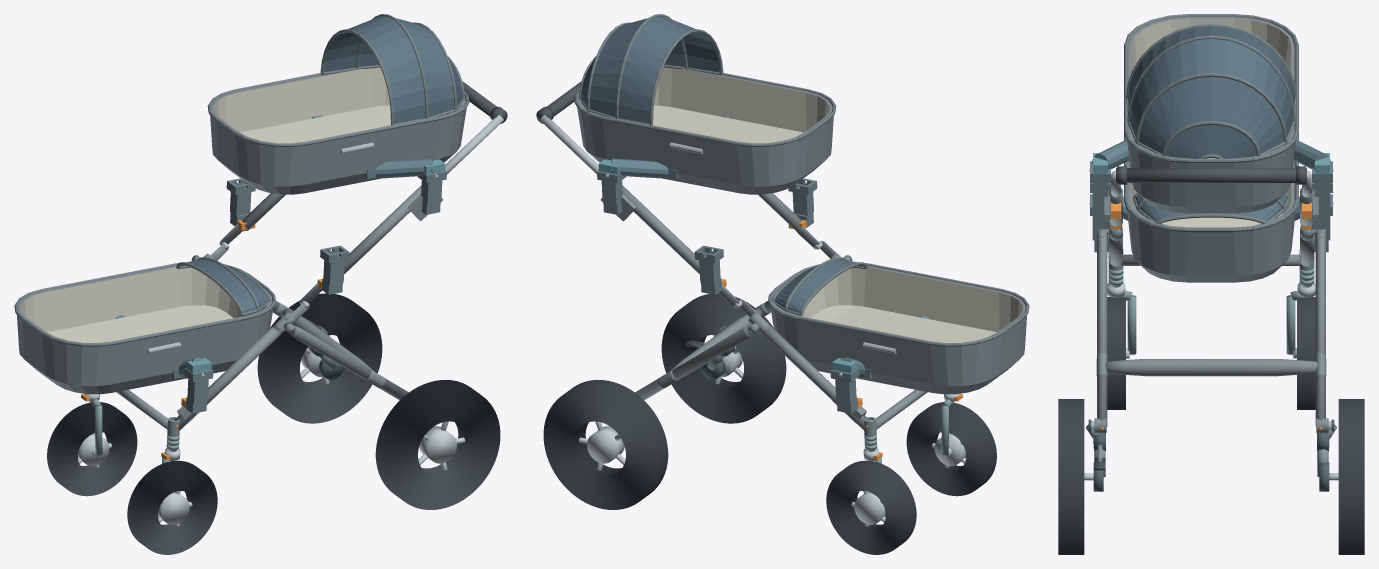
File: D03_w550_state1_wheel_L.glb
The picture shows the model from 3 angles, left to right: view 1: azimuth 30°, elevation 25°; view 2: azimuth 150°, elevation 25°; view 3: azimuth 270°, elevation 25°; orthographic projection. The views are drawn at different scales.
Parts seen in each view (by area): view 1: D03_Upper, D03_Lower, RL_tire.002, RR_tire.002, FL_tire.002, FR_tire.002, V46_rear_leg_-1.003, main_lower_-1.003, D03_Upper_Mount_H, main_upper_-1.003, Universal_Cabin_Receiver_M_-1, RL_sealed_hub.002 (+7 smaller); view 2: D03_Upper, D03_Lower, RR_tire.002, RL_tire.002, FR_tire.002, FL_tire.002, V46_rear_leg_1.003, main_lower_1.003, D03_Upper_Mount_H, main_upper_1.003, Universal_Cabin_Receiver_M_1, RR_sealed_hub.002 (+7 smaller); view 3: D03_Upper, D03_Lower, RL_tire.002, RR_tire.002, V46_rearbar.003, round_handle.002, FL_tire.002, FR_tire.002, V46_rear_leg_1.003, V46_rear_leg_-1.003, D03_Upper_Mount_H, Universal_Cabin_Receiver_H_1 (+3 smaller).
Boxes of the visible parts, x1,y1,x2,y2 form: D03_Upper: [207, 14, 469, 194]; D03_Lower: [14, 257, 275, 394]; RL_tire.002: [375, 379, 500, 509]; RR_tire.002: [257, 293, 382, 423]; FL_tire.002: [127, 460, 217, 554]; FR_tire.002: [47, 402, 137, 496]; V46_rear_leg_-1.003: [292, 326, 408, 400]; main_lower_-1.003: [174, 327, 283, 430]; D03_Upper_Mount_H: [312, 115, 445, 179]; main_upper_-1.003: [344, 185, 421, 274]; Universal_Cabin_Receiver_M_-1: [320, 245, 349, 294]; RL_sealed_hub.002: [419, 426, 456, 463]; D03_Upper: [574, 14, 836, 194]; D03_Lower: [768, 257, 1029, 394]; RR_tire.002: [543, 379, 668, 509]; RL_tire.002: [661, 293, 786, 423]; FR_tire.002: [826, 460, 916, 554]; FL_tire.002: [906, 402, 996, 496]; V46_rear_leg_1.003: [635, 326, 751, 400]; main_lower_1.003: [760, 327, 869, 430]; D03_Upper_Mount_H: [598, 115, 731, 179]; main_upper_1.003: [622, 185, 699, 274]; Universal_Cabin_Receiver_M_1: [694, 245, 723, 294]; RR_sealed_hub.002: [587, 426, 624, 463]; D03_Upper: [1124, 14, 1298, 213]; D03_Lower: [1124, 132, 1298, 282]; RL_tire.002: [1058, 399, 1084, 554]; RR_tire.002: [1338, 399, 1364, 554]; V46_rearbar.003: [1105, 359, 1317, 376]; round_handle.002: [1116, 168, 1306, 182]; FL_tire.002: [1107, 297, 1125, 409]; FR_tire.002: [1297, 297, 1315, 409]; V46_rear_leg_1.003: [1315, 236, 1325, 426]; V46_rear_leg_-1.003: [1097, 236, 1107, 426]; D03_Upper_Mount_H: [1089, 139, 1333, 173]; Universal_Cabin_Receiver_H_1: [1312, 161, 1332, 219].
Size of the model in its own units: 1.38 by 1.33 by 0.7071.
